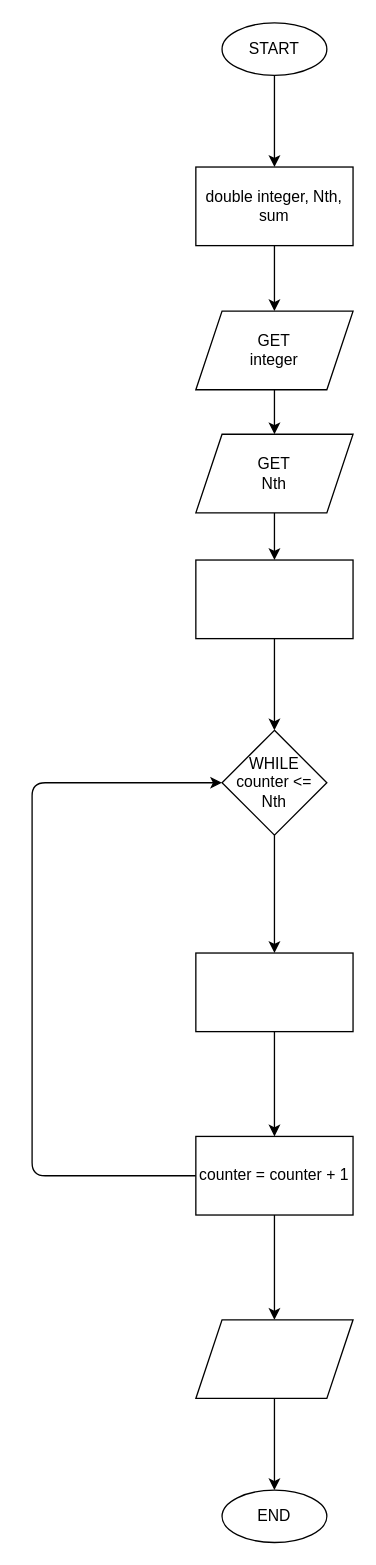
The diagram is 376 pixels wide and 1565 high, and some of its shapes have lost their labels. Each missing label, with the centre of its shape:
"int counter =1" belongs at point (274, 599).
"PRINT sum" belongs at point (274, 1358).
"sum = sum + counter * (integer / counter)" belongs at point (274, 992).
